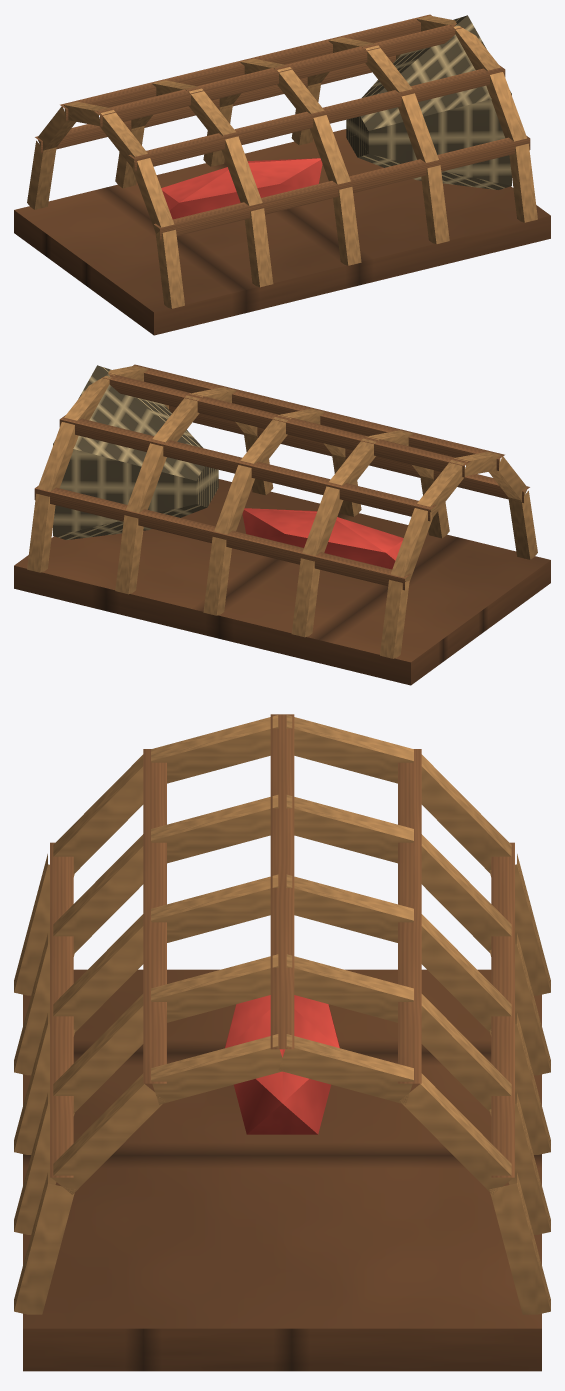
The model's file is prop_lobster_trap_01.glb.
The picture shows the model from 3 angles, top to bottom: view 1: azimuth 30°, elevation 25°; view 2: azimuth 150°, elevation 25°; view 3: azimuth 270°, elevation 25°; orthographic projection. The views are drawn at different scales.
Parts seen in each view (by area): view 1: prop_lobster_trap_01; view 2: prop_lobster_trap_01; view 3: prop_lobster_trap_01.
Boxes of the visible parts, x1,y1,x2,y2 form: prop_lobster_trap_01: (14,14,550,335); prop_lobster_trap_01: (14,364,550,685); prop_lobster_trap_01: (14,714,550,1371).
Size of the model in its own units: 0.9 by 0.4 by 0.5692.
1 material, 1 textured.
